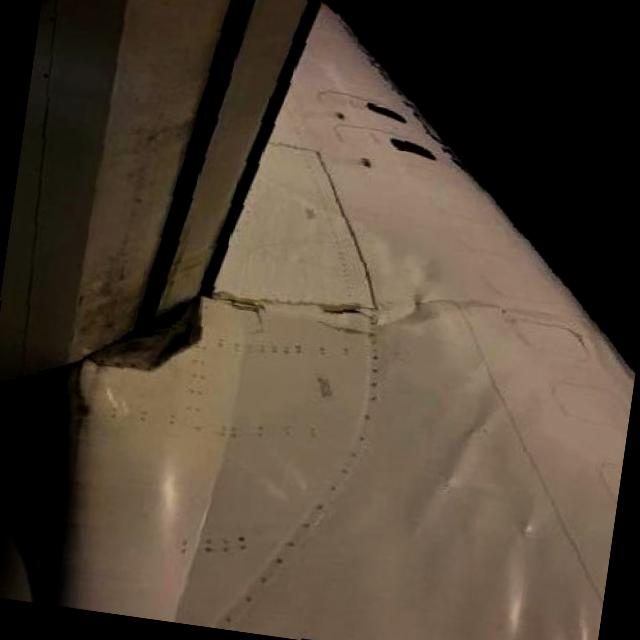dent: (427, 404, 504, 534), (487, 512, 547, 640), (386, 260, 468, 336), (544, 604, 600, 640)
